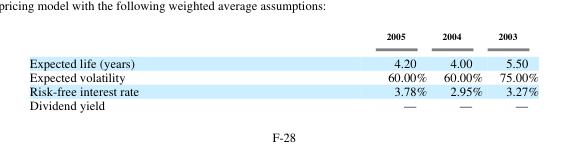table: (28, 28, 537, 112)
table column: (28, 28, 261, 112), (261, 28, 433, 112), (433, 28, 489, 112), (489, 28, 537, 112)
table column header: (28, 28, 537, 47)
table row: (28, 47, 537, 69), (28, 28, 537, 47), (28, 97, 537, 112), (28, 69, 537, 83), (28, 83, 537, 97)
